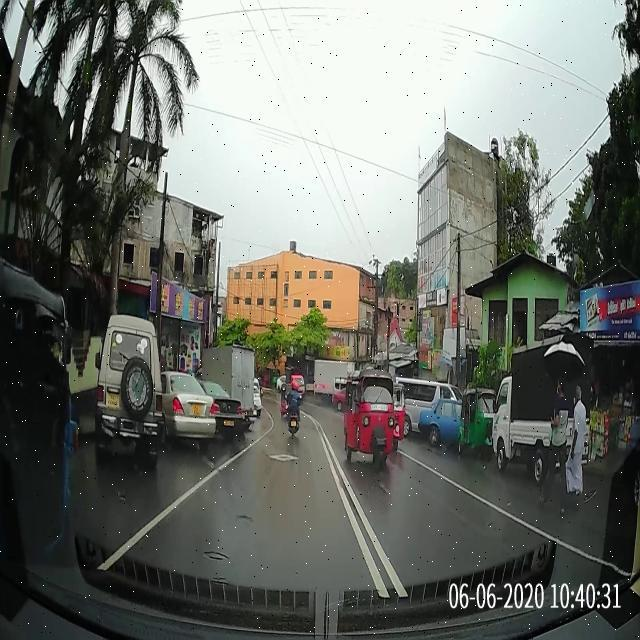diamond: (215, 437, 344, 488)
